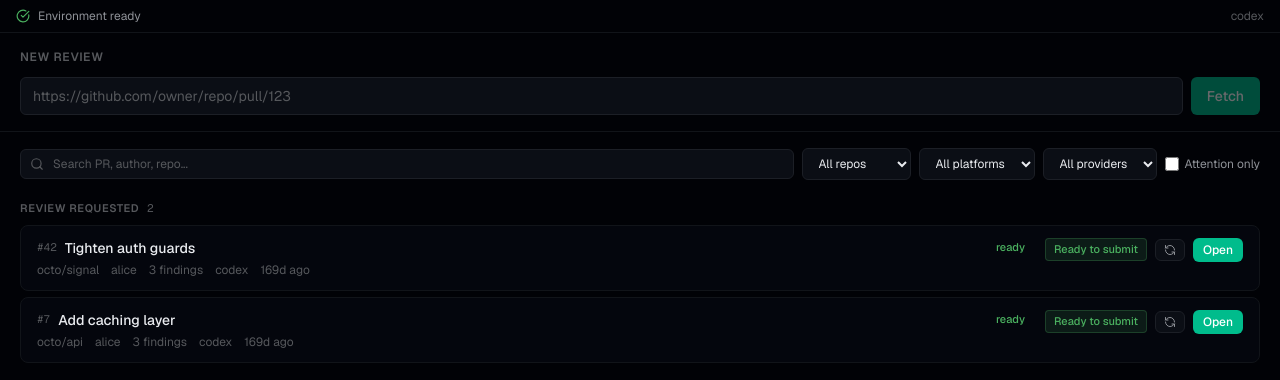
Scenario: InboxView › filters queue rows by search text
The image size is (1280, 380).
Check: the heading "Add caching layer" is shown, box [58,310,175,328]
Type "caching" into the field with placeholder "Search PR, author, repo...".
click(407, 164); type("caching")  # box [20,149,794,179]
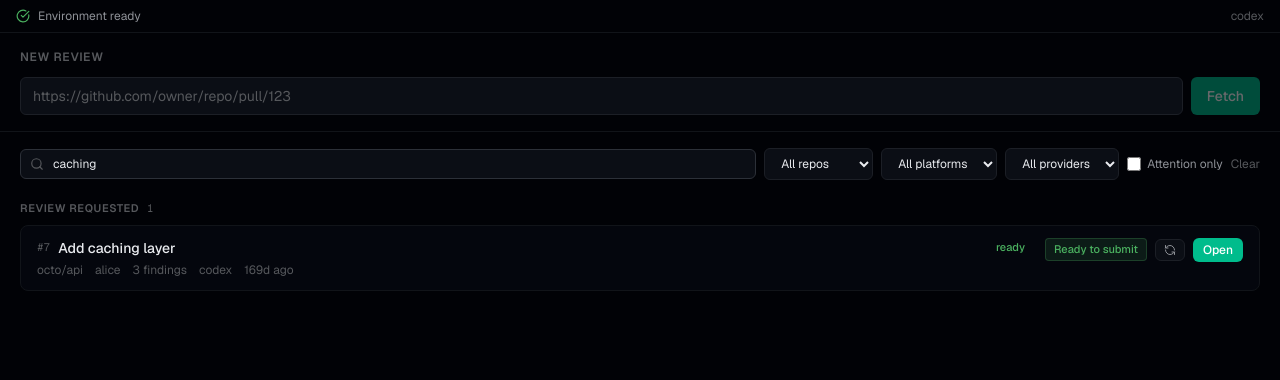
Check: the heading "Add caching layer" is shown, box [58,238,175,256]
Check: the heading "Tighten auth guards" is gone
